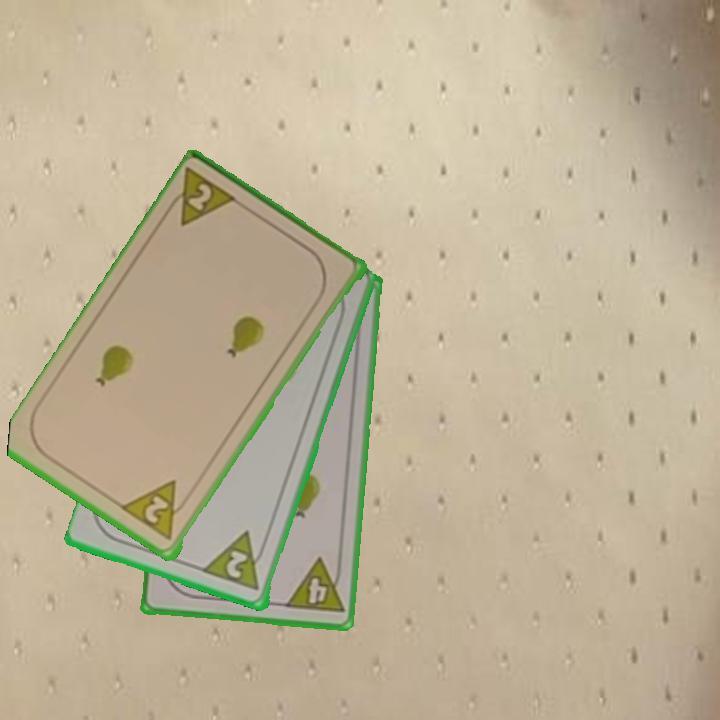2p: (161, 165, 242, 230), (119, 476, 194, 544), (201, 528, 272, 594)
4p: (281, 555, 347, 617)
